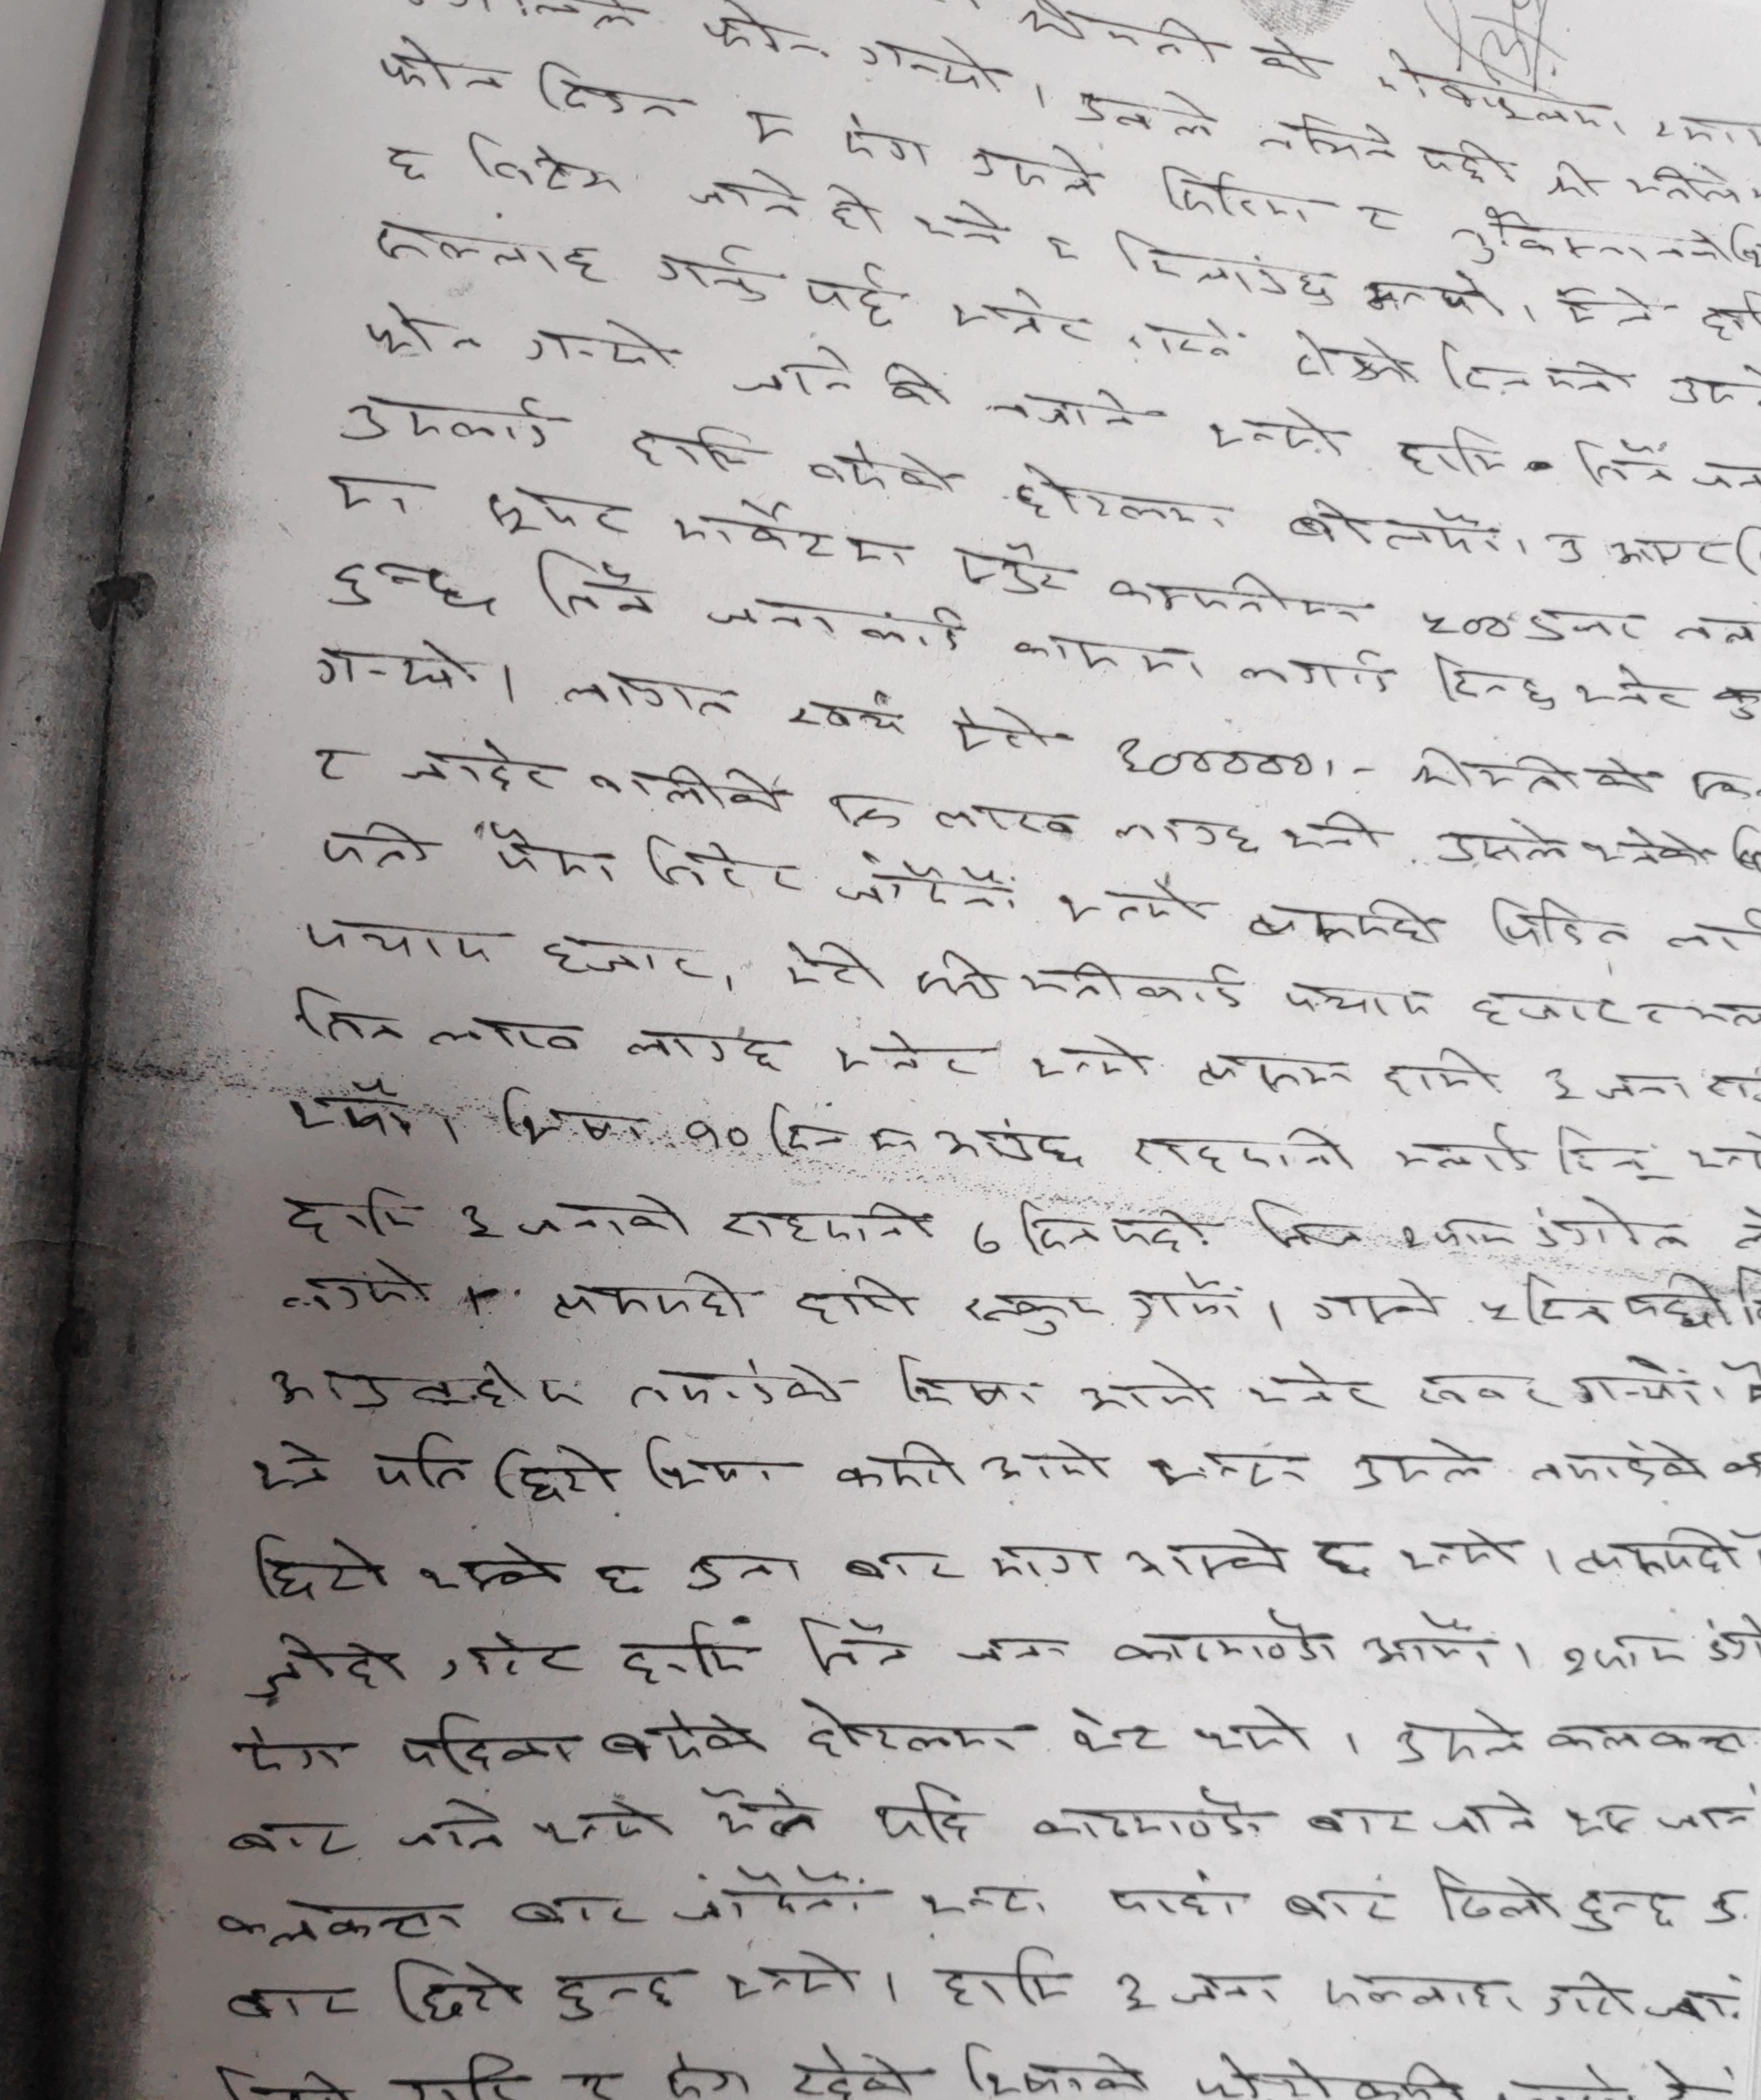text: (1373, 49, 1623, 136), (1447, 204, 1761, 273), (1396, 1190, 1698, 1254), (267, 1357, 589, 1417), (667, 496, 910, 575), (1113, 229, 1342, 309), (367, 215, 603, 290), (1013, 456, 1239, 535), (1108, 566, 1396, 625), (795, 1693, 1022, 1765), (708, 592, 968, 653), (1406, 741, 1658, 804), (215, 1892, 472, 1953), (1029, 1786, 1277, 1845), (332, 388, 559, 452), (1109, 1607, 1340, 1670), (954, 2034, 1160, 2100), (1282, 494, 1504, 556), (1567, 430, 1761, 500), (253, 1627, 414, 1710), (664, 1861, 877, 1924), (1434, 334, 1633, 398), (1010, 1193, 1209, 1258), (1022, 0, 1225, 63), (830, 849, 1020, 915), (624, 1359, 853, 1413), (1247, 891, 1440, 954), (589, 755, 786, 816), (711, 1199, 940, 1251), (1125, 1123, 1354, 1176), (398, 1710, 578, 1777), (1019, 957, 1246, 1010), (328, 554, 503, 620), (1120, 1525, 1295, 1592), (545, 1272, 758, 1326), (459, 131, 625, 199), (313, 632, 479, 701), (643, 832, 807, 900), (535, 58, 697, 126), (388, 1950, 528, 2028), (601, 1703, 770, 1768), (302, 917, 503, 971), (252, 1529, 391, 1606), (853, 30, 1008, 98), (561, 666, 744, 723), (1316, 1971, 1523, 2021), (517, 1190, 695, 1247), (494, 1080, 641, 1150), (1155, 157, 1305, 225), (1008, 629, 1207, 680), (809, 439, 961, 503), (931, 1943, 1071, 2013), (524, 314, 683, 376), (533, 543, 659, 620), (1113, 734, 1316, 781), (1567, 1523, 1742, 1578), (1074, 82, 1225, 145), (1483, 891, 1628, 956), (947, 283, 1099, 344), (1144, 1440, 1316, 1494), (617, 1616, 748, 1686), (1543, 1717, 1761, 1759), (278, 1183, 426, 1244), (278, 1258, 435, 1316), (1431, 1859, 1560, 1929), (1530, 1440, 1709, 1490), (1235, 645, 1396, 701), (482, 479, 629, 540), (372, 35, 507, 101), (486, 823, 620, 889), (989, 379, 1139, 439), (638, 1429, 779, 1492), (722, 1945, 863, 2007), (402, 741, 561, 797), (1389, 1118, 1534, 1179), (832, 1026, 985, 1083), (487, 1440, 620, 1506), (788, 1613, 921, 1679), (1282, 327, 1422, 390), (540, 931, 708, 984), (1053, 874, 1209, 929), (280, 1080, 418, 1143), (1361, 1609, 1499, 1672), (898, 1354, 1043, 1413), (1431, 650, 1557, 718), (1076, 1356, 1223, 1413), (1345, 1438, 1490, 1496), (868, 1779, 980, 1852), (830, 1436, 968, 1496), (549, 1964, 690, 2021), (1571, 1356, 1712, 1413), (358, 300, 487, 363), (926, 791, 1085, 842), (1205, 407, 1354, 461), (1242, 1363, 1391, 1417), (954, 538, 1081, 601), (692, 1782, 823, 1843), (653, 241, 774, 307), (1429, 812, 1567, 870), (435, 1630, 585, 1682), (529, 1798, 683, 1848), (791, 1270, 922, 1330), (786, 2041, 917, 2100), (968, 142, 1102, 199), (725, 344, 860, 402), (1571, 657, 1696, 718), (688, 162, 807, 227), (1473, 985, 1635, 1033), (293, 982, 409, 1048), (1099, 1868, 1244, 1920), (234, 1721, 358, 1782), (938, 1120, 1078, 1174), (1389, 1709, 1520, 1766), (624, 1026, 783, 1073), (1307, 1275, 1445, 1330), (393, 1794, 514, 1855), (975, 1436, 1120, 1487), (1361, 269, 1501, 321), (425, 1013, 585, 1059), (1282, 978, 1436, 1026), (1188, 1705, 1317, 1761), (1550, 1123, 1668, 1183), (625, 423, 751, 479), (363, 1429, 472, 1494), (1195, 1052, 1361, 1094), (227, 1817, 358, 1869), (1246, 1195, 1364, 1253), (943, 701, 1055, 762), (961, 1289, 1099, 1338), (1378, 1047, 1502, 1101), (1616, 1272, 1728, 1331), (804, 260, 905, 325), (222, 1981, 360, 2028), (1396, 426, 1511, 482), (1578, 823, 1714, 870), (1115, 811, 1267, 853), (1029, 1033, 1155, 1083), (921, 1875, 1046, 1925), (1413, 1368, 1553, 1413), (1258, 114, 1392, 161), (1125, 1268, 1246, 1321), (1122, 313, 1240, 365), (786, 690, 908, 741), (505, 1890, 643, 1934), (1623, 161, 1742, 211), (1062, 1703, 1167, 1759), (1396, 1529, 1515, 1578), (1417, 135, 1520, 190), (779, 936, 882, 992), (1567, 1883, 1684, 1932), (1431, 1791, 1543, 1841), (316, 819, 432, 868), (835, 1550, 970, 1592), (1282, 1882, 1406, 1927), (984, 1537, 1097, 1586), (1164, 1965, 1286, 2011), (910, 945, 1003, 1005), (465, 1539, 570, 1592), (678, 1551, 804, 1595), (1537, 1969, 1639, 2023), (762, 1097, 847, 1160), (1606, 529, 1733, 571), (1303, 1798, 1419, 1843), (837, 114, 936, 166), (1551, 281, 1665, 327), (1520, 1267, 1604, 1326), (321, 472, 425, 519), (1281, 809, 1384, 856), (914, 190, 998, 248), (1522, 606, 1646, 645), (957, 1630, 1071, 1670), (814, 788, 914, 833), (255, 1436, 328, 1492), (882, 351, 947, 411), (1249, 37, 1329, 84), (681, 1108, 755, 1158), (1413, 603, 1509, 641), (1592, 1634, 1684, 1672), (1310, 1527, 1373, 1583), (1560, 1798, 1642, 1840), (825, 178, 882, 238), (1668, 615, 1761, 652), (1590, 1073, 1695, 1101), (383, 140, 435, 190), (742, 108, 804, 150), (307, 739, 362, 786), (458, 1204, 505, 1253), (1106, 1967, 1155, 2014), (1039, 236, 1094, 278), (594, 1557, 646, 1599), (1548, 159, 1595, 204), (1354, 199, 1399, 245), (863, 1122, 921, 1157), (414, 1562, 459, 1602), (1539, 1066, 1583, 1106), (1474, 1293, 1520, 1330), (966, 1216, 1003, 1254), (1548, 529, 1585, 568), (1557, 1644, 1592, 1681)
